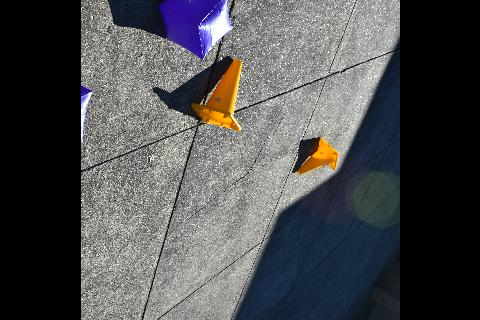cone: (190, 59, 243, 131), (296, 138, 338, 174)
cube: (157, 0, 233, 60), (80, 84, 92, 144)
